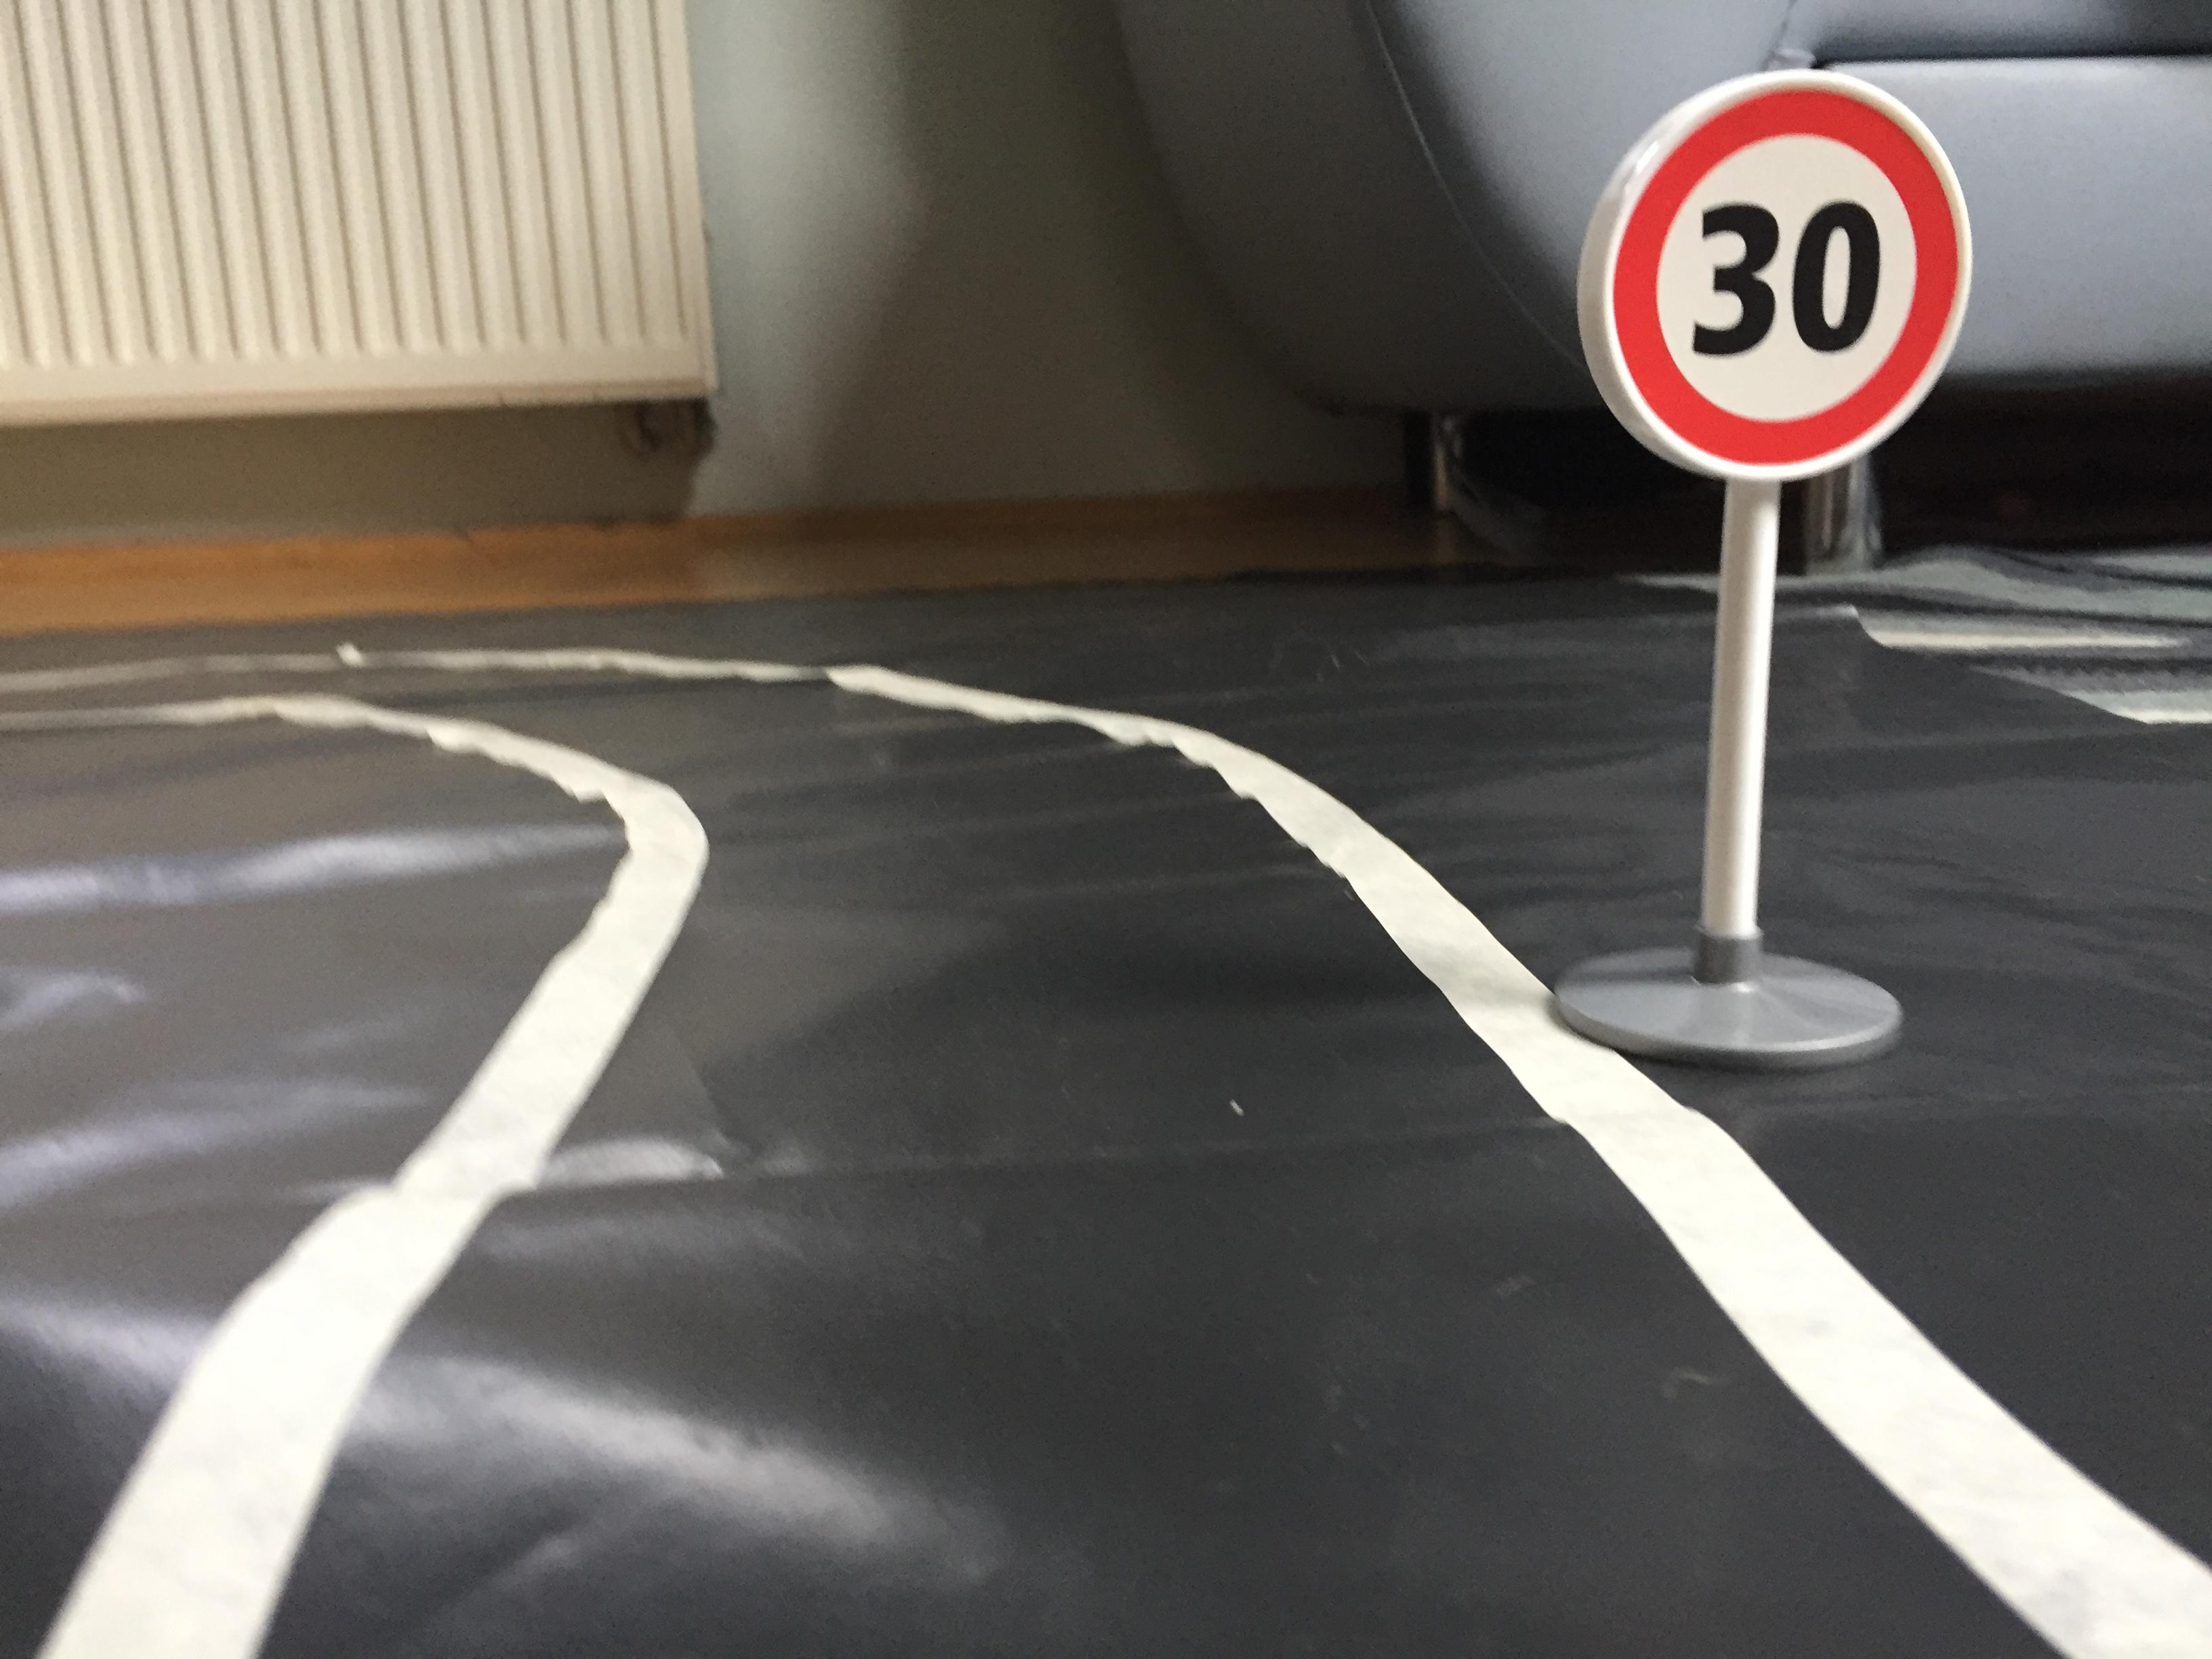speed: (1575, 56, 1980, 491)
